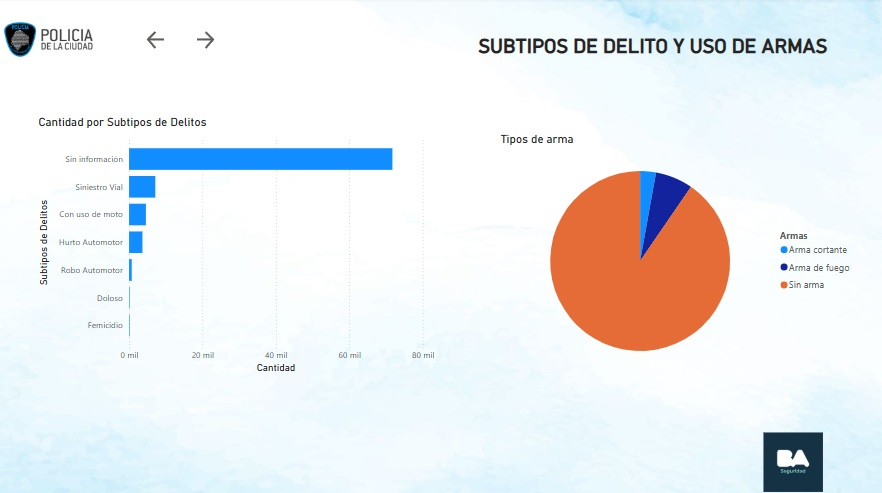

The page's visual inventory and layout, read from the dashboard file:
{"tool":"powerbi","page":{"name":"Página 4","canvas":[1280,720],"ordinal":5},"visuals":[{"type":"image","box":[0,0,142.9,122.9],"z":0},{"type":"image","box":[1100,624.3,95.7,95.7],"z":1000},{"type":"textbox","box":[674.3,48.6,542.9,58.6],"z":2000},{"type":"actionButton","box":[206.7,41.9,70.8,40.5],"z":3000},{"type":"actionButton","box":[277.6,41.9,66.5,40.5],"z":4000},{"type":"barChart","fields":{"Y":["TablaMedidas.Cantidad_Delitos"],"Category":["Subtipo.subtipo"]},"box":[52,170.6,582.7,378.8],"z":5000},{"type":"pieChart","title":"Tipos de arma","fields":{"Y":["TablaMedidas.Cantidad_Delitos"],"Series":["Uso de arma.uso_armas"]},"box":[720,195.2,524.8,354.2],"z":6000}]}

Visuals, with their boxes in screenshot pixels (x1, y1, x2, y2), scaled from the page's 1280x720 canvas onto the 882x493 screenshot:
image: {"left": 0, "top": 0, "right": 98, "bottom": 84}
image: {"left": 758, "top": 427, "right": 824, "bottom": 492}
textbox: {"left": 465, "top": 33, "right": 839, "bottom": 73}
actionButton: {"left": 142, "top": 29, "right": 191, "bottom": 56}
actionButton: {"left": 191, "top": 29, "right": 237, "bottom": 56}
barChart - TablaMedidas.Cantidad_Delitos x Subtipo.subtipo: {"left": 36, "top": 117, "right": 437, "bottom": 376}
"Tipos de arma" pieChart: {"left": 496, "top": 134, "right": 858, "bottom": 376}
